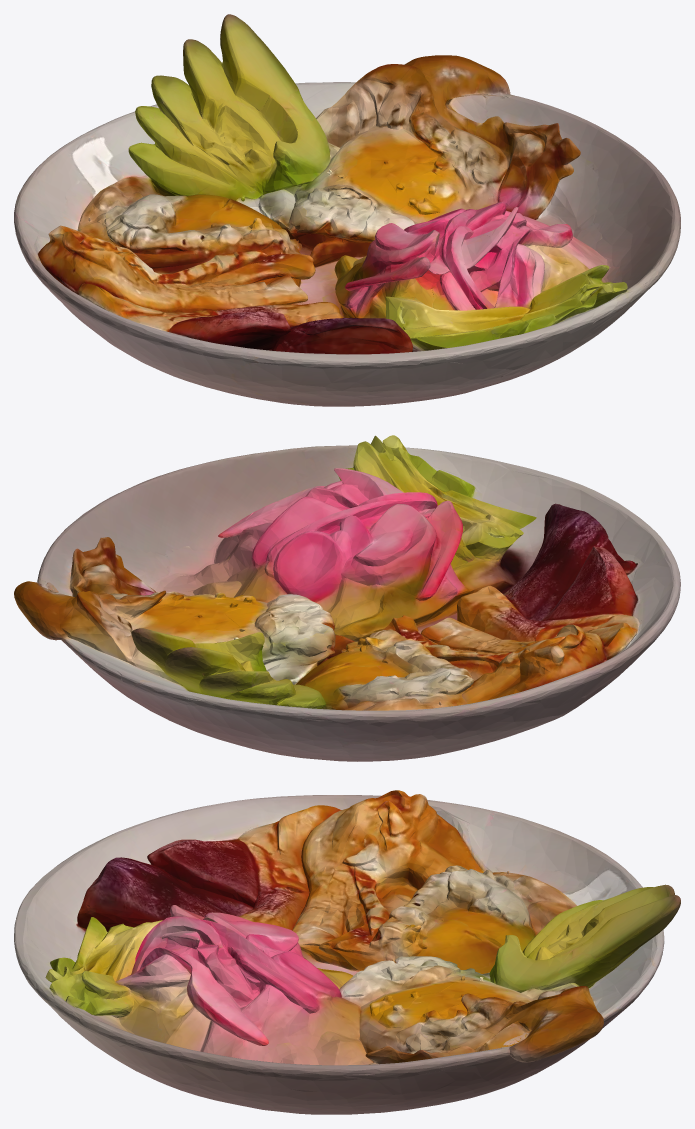
File: mangu.glb
3 renders of one model, top to bottom at view 1: azimuth 30°, elevation 25°; view 2: azimuth 150°, elevation 25°; view 3: azimuth 270°, elevation 25°, orthographic. The views are drawn at different scales.
Visible parts, largest first — view 1: geometry_0; view 2: geometry_0; view 3: geometry_0.
Part boxes in pixels (left/top/right/bottom): geometry_0: left=14, top=14, right=680, bottom=406; geometry_0: left=14, top=435, right=680, bottom=761; geometry_0: left=14, top=790, right=680, bottom=1114.
Size of the model in its own units: 0.2629 by 0.0783 by 0.2699.
1 material, 1 textured.
